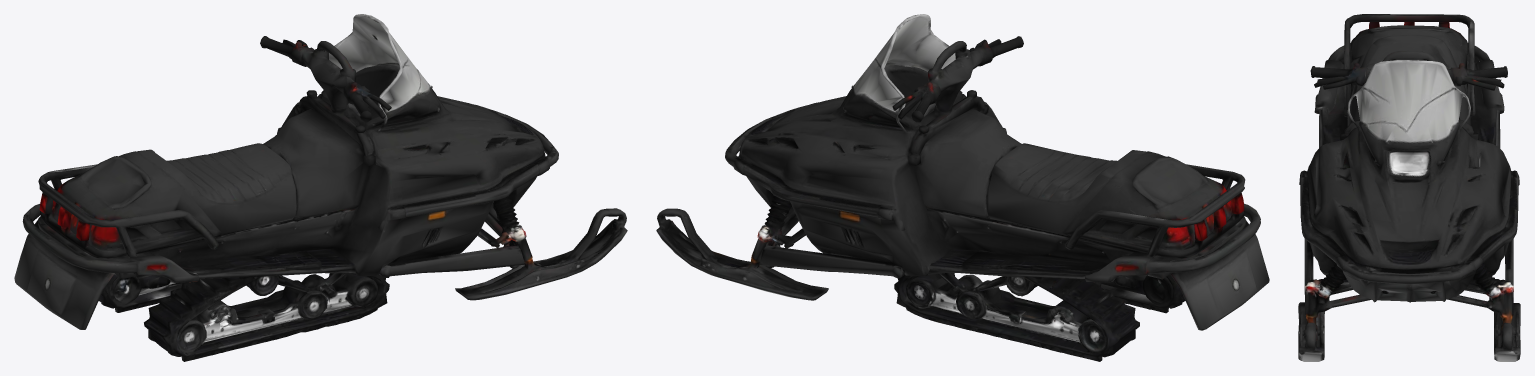
The model's file is snowmobile.glb.
The picture shows the model from 3 angles, left to right: view 1: azimuth 30°, elevation 25°; view 2: azimuth 150°, elevation 25°; view 3: azimuth 270°, elevation 25°; orthographic projection. The views are drawn at different scales.
Parts seen in each view (by area): view 1: node_0; view 2: node_0; view 3: node_0.
Part boxes in pixels (x1=…): node_0: x1=14, y1=14, x2=627, y2=361; node_0: x1=656, y1=14, x2=1269, y2=361; node_0: x1=1298, y1=14, x2=1520, y2=361.
Bounding box in the file's own units: 1.09 × 0.4918 × 0.4177.
Materials: 1 (1 with a texture image).
